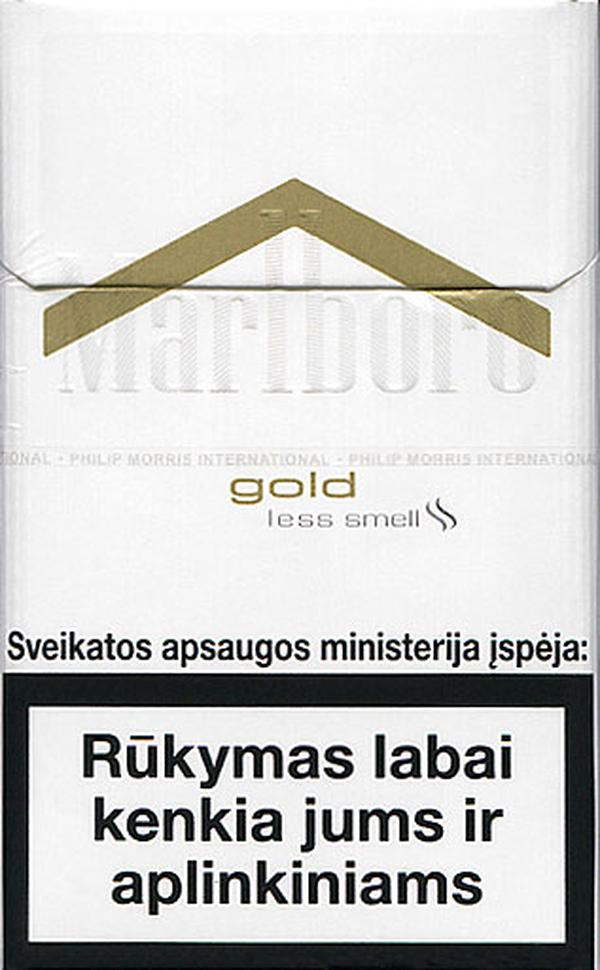marlboro_gold: (9, 1, 590, 969)
